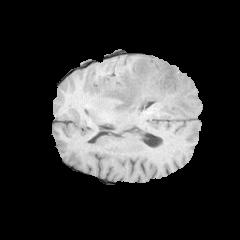glioma: (98, 57, 195, 114)
